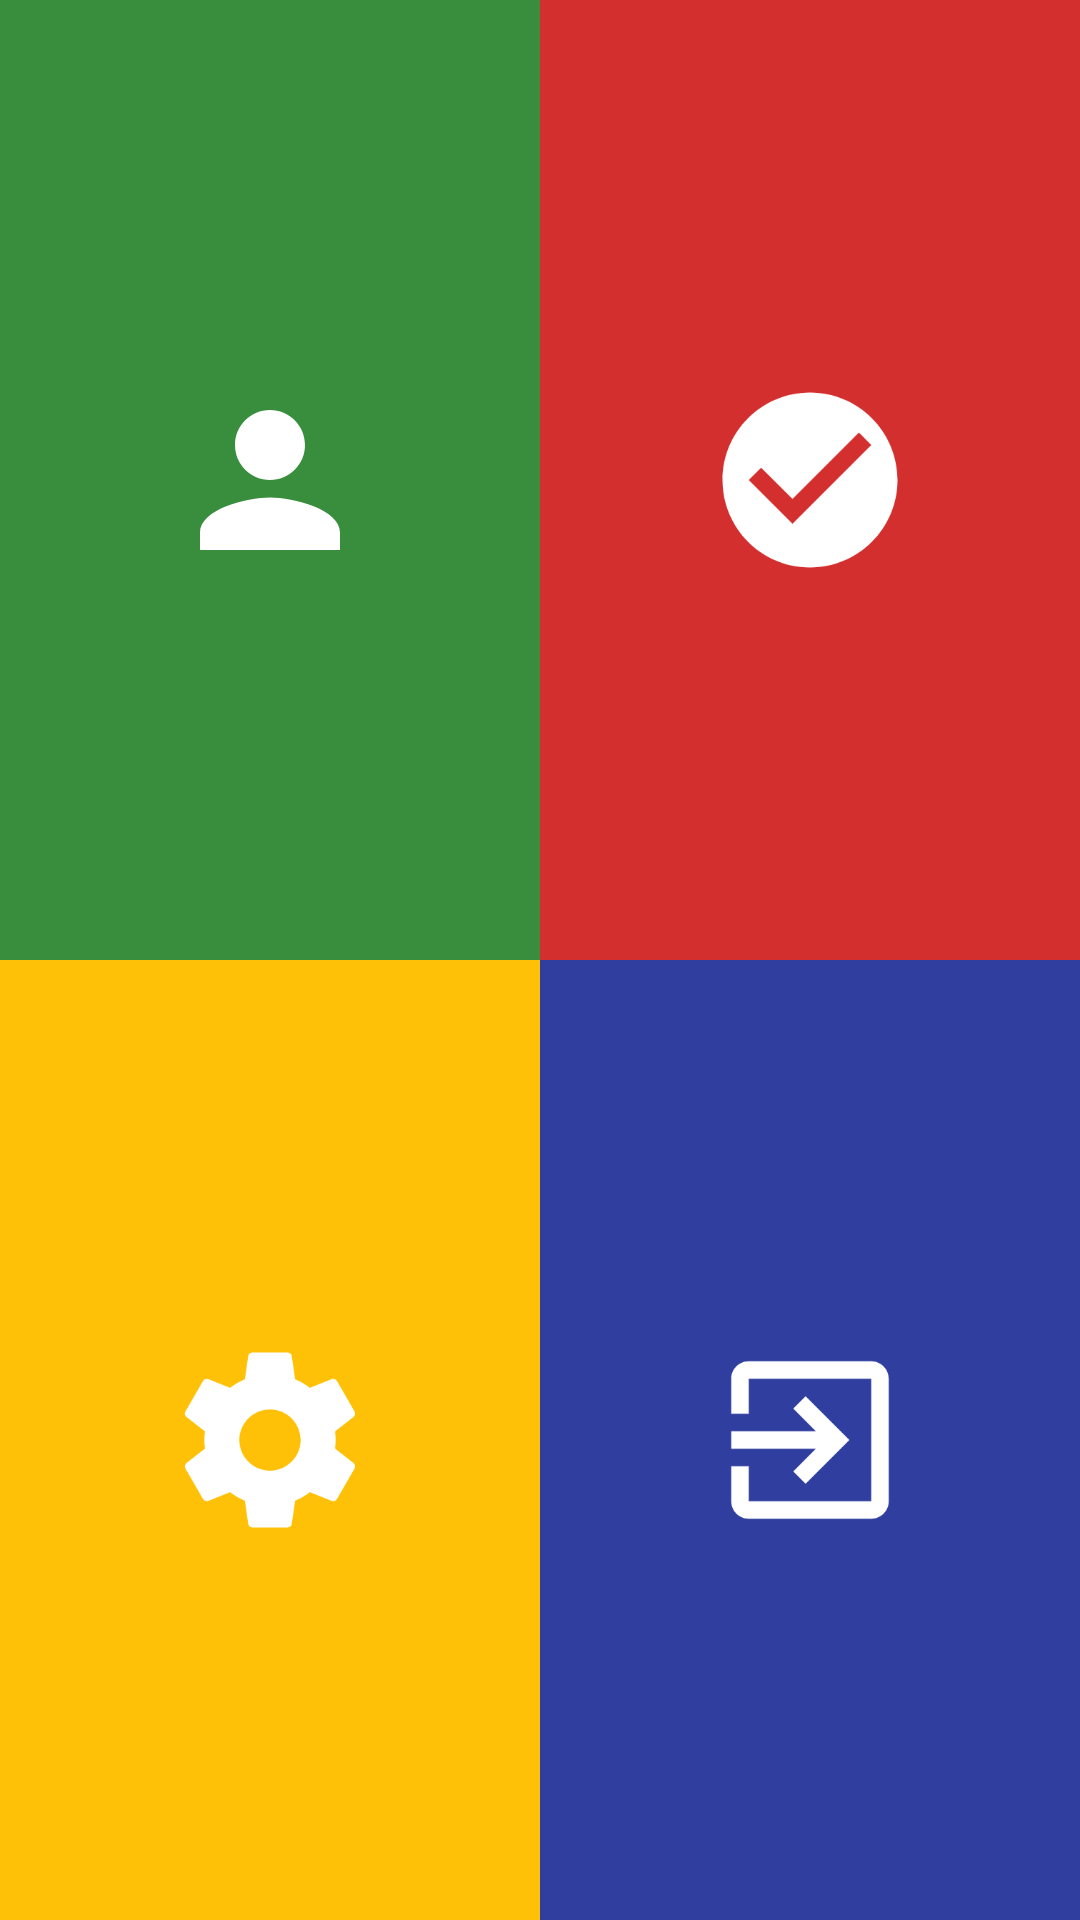

Locate icon controls on the screen. Image size 1080×1920, boxes as (x1, y1, x2, y2).
exit: (731, 1361, 889, 1519)
person: (200, 410, 340, 550)
settings: (184, 1352, 355, 1528)
task: (722, 392, 898, 568)
